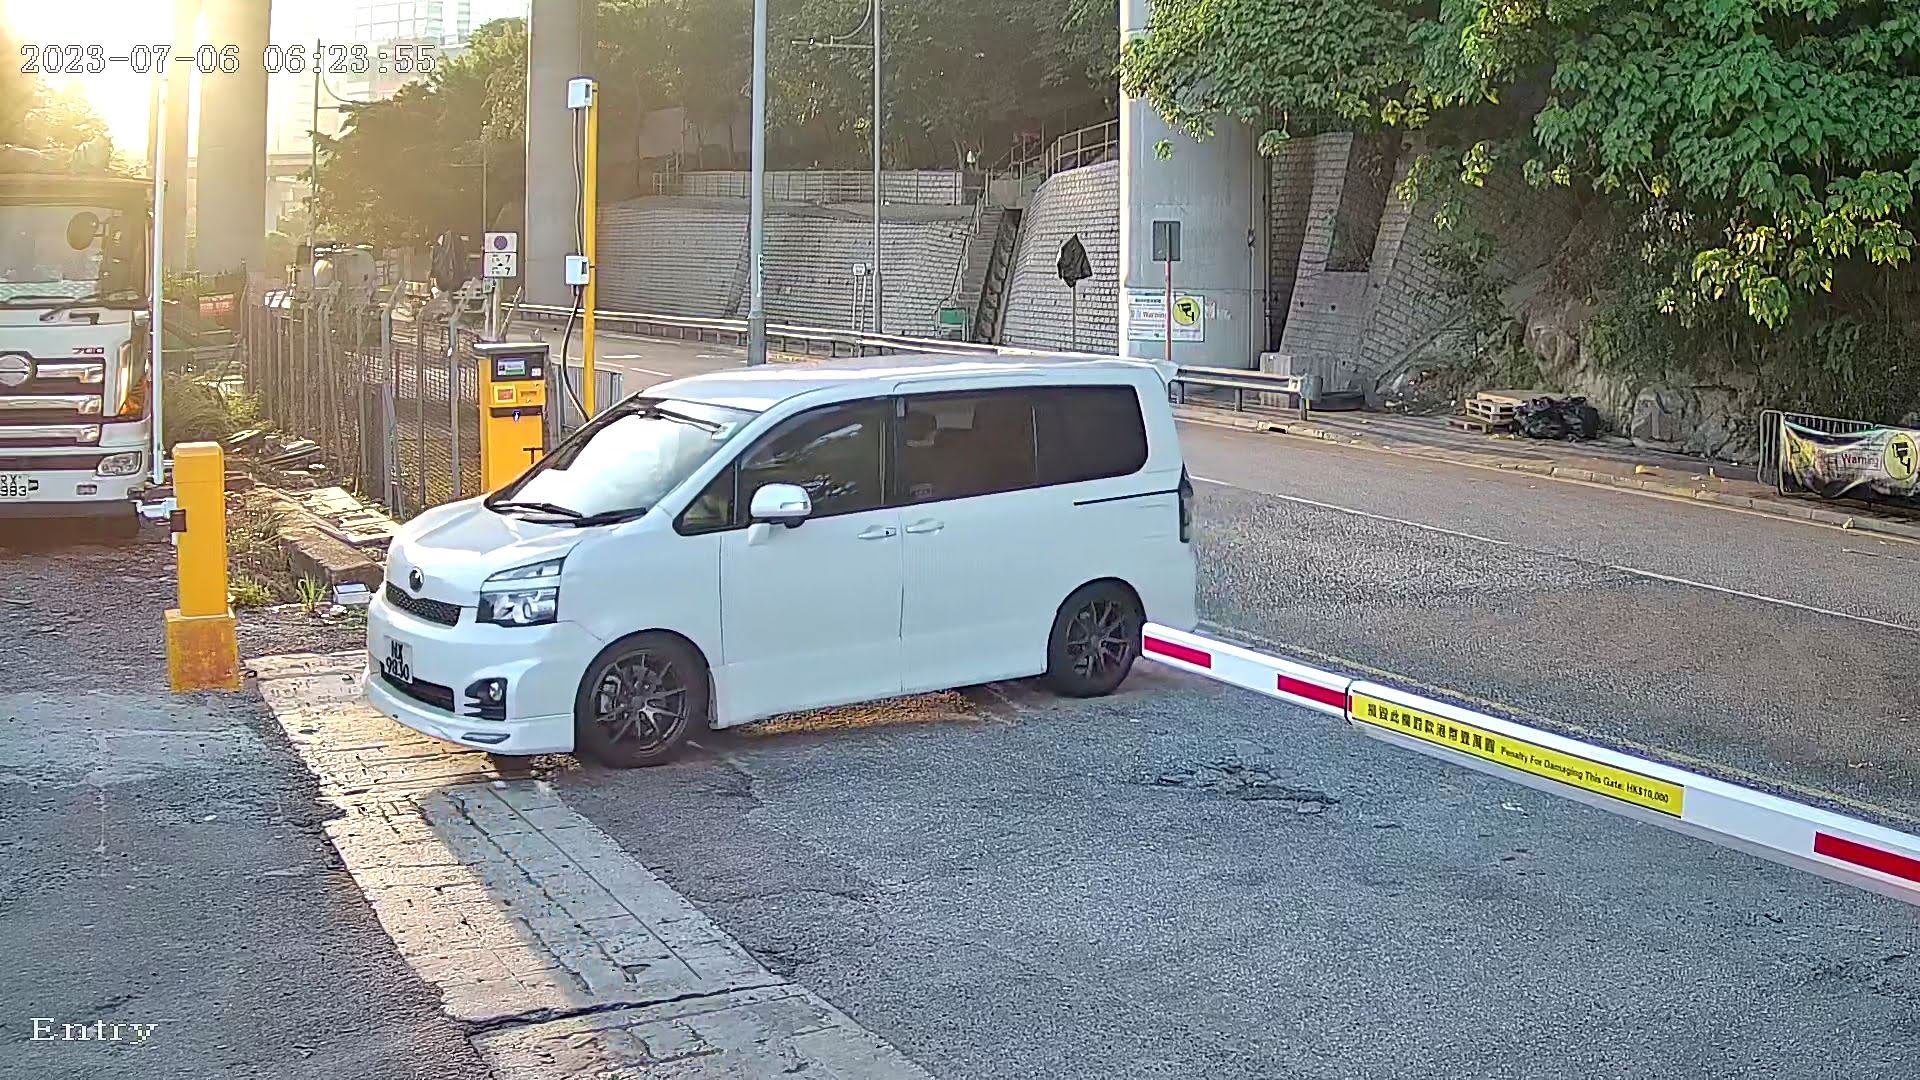privatecar: (349, 266, 1294, 791)
